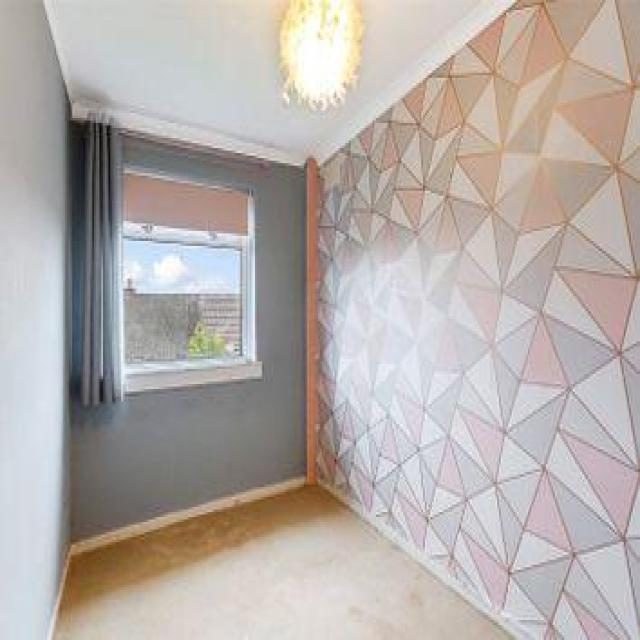Wall: (308, 3, 640, 638), (0, 0, 305, 638), (44, 0, 514, 166), (55, 486, 509, 638)
